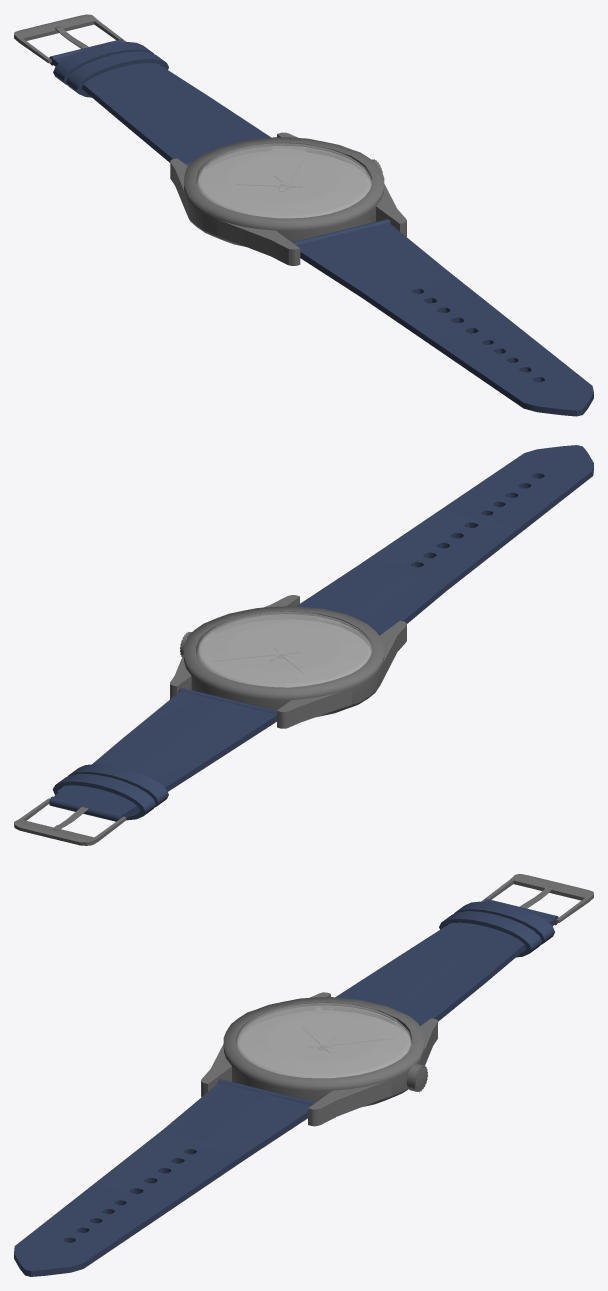
Rendered from WatchFinalFbx.fbx.
The picture shows the model from 3 angles, top to bottom: view 1: azimuth 30°, elevation 25°; view 2: azimuth 150°, elevation 25°; view 3: azimuth 330°, elevation 25°; orthographic projection.
Parts seen in each view (by area): view 1: watchBandHoles, watchBody, watchBandBuckle1, watchFace, watchBuckle; view 2: watchBody, watchBandHoles, watchBandBuckle1, watchFace, watchBuckle; view 3: watchBandHoles, watchBody, watchBandBuckle1, watchFace, watchBuckle.
Boxes of the visible parts, <box> form: watchBandHoles: <box>292,219,593,416</box>; watchBody: <box>170,132,406,265</box>; watchBandBuckle1: <box>49,39,270,165</box>; watchFace: <box>196,143,371,218</box>; watchBuckle: <box>14,14,125,63</box>; watchBody: <box>170,595,406,728</box>; watchBandHoles: <box>296,445,593,635</box>; watchBandBuckle1: <box>49,687,276,821</box>; watchFace: <box>196,611,371,687</box>; watchBuckle: <box>14,798,126,845</box>; watchBandHoles: <box>14,1079,315,1276</box>; watchBody: <box>201,992,437,1126</box>; watchBandBuckle1: <box>335,898,558,1025</box>; watchFace: <box>236,1003,411,1078</box>; watchBuckle: <box>482,874,593,922</box>.
Bounding box in the file's own units: 6.3 × 1.32 × 31.42.
